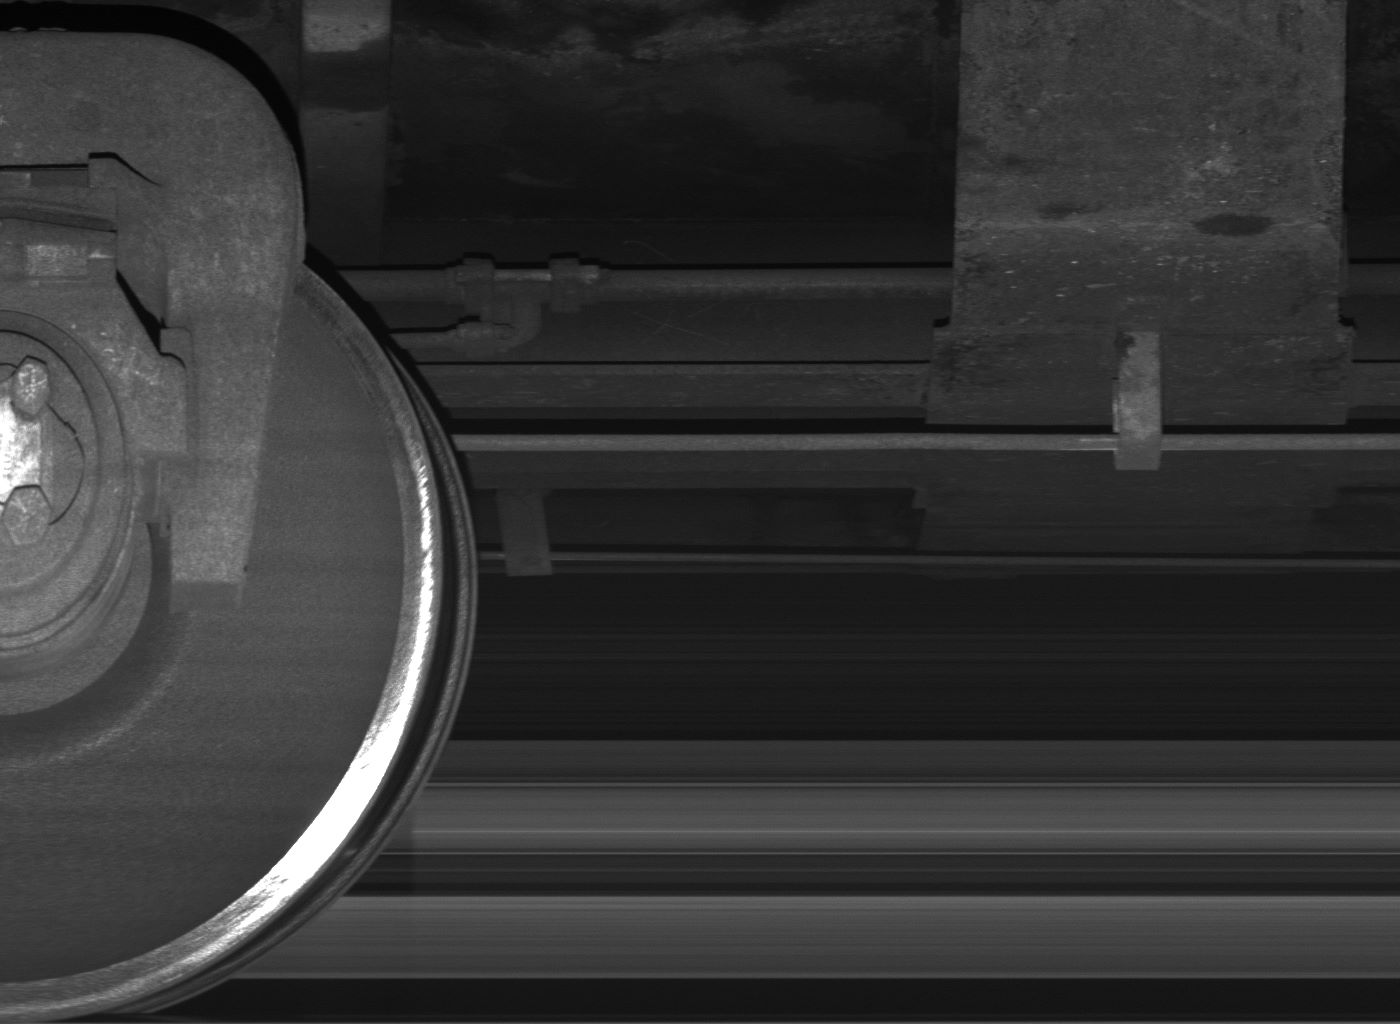normal: (1109, 335, 1161, 472), (498, 491, 550, 577)
